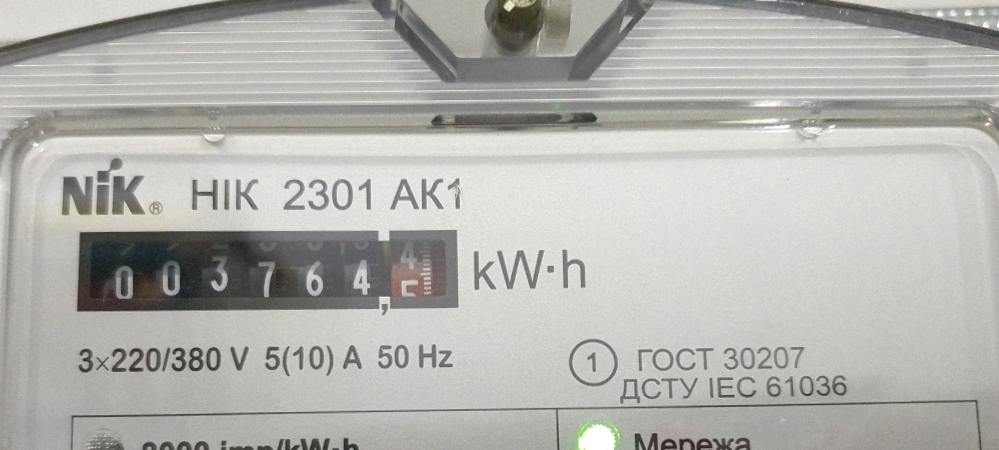0: (111, 262, 135, 299), (159, 257, 181, 297)
3: (207, 252, 230, 292)
4: (351, 256, 371, 296), (398, 238, 419, 270)
5: (398, 276, 420, 298)
6: (304, 257, 325, 296)
7: (255, 256, 278, 298)
screen: (61, 211, 473, 325)
